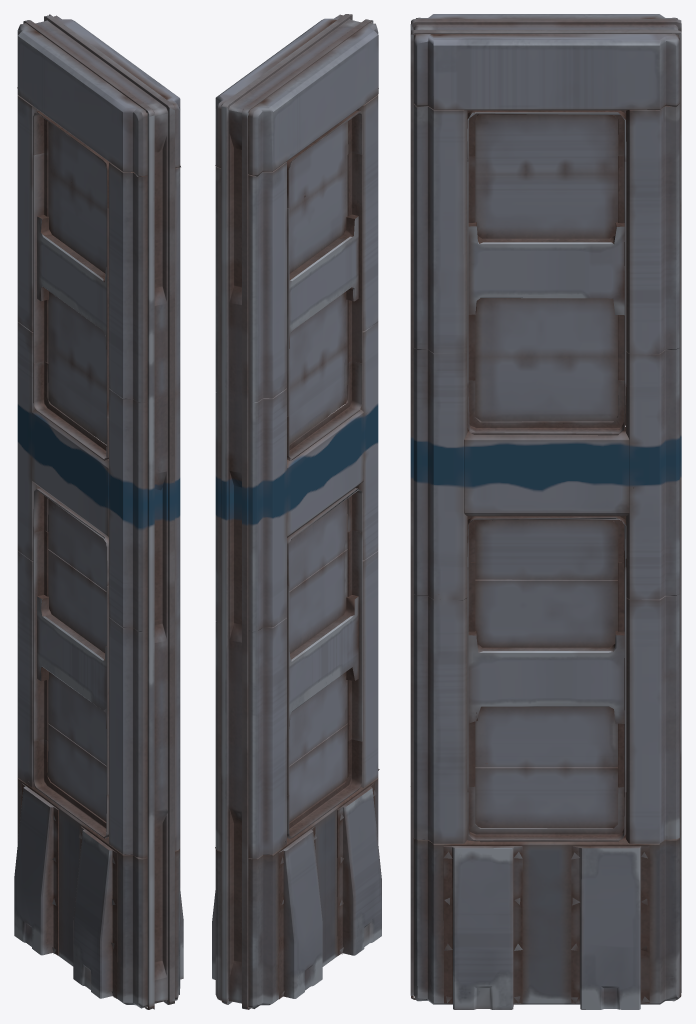
File: Gate_Metal_C.glb
The picture shows the model from 3 angles, left to right: view 1: azimuth 30°, elevation 25°; view 2: azimuth 150°, elevation 25°; view 3: azimuth 270°, elevation 25°; orthographic projection. The views are drawn at different scales.
Visible parts, largest first — view 1: SM_Metal_Gate; view 2: SM_Metal_Gate; view 3: SM_Metal_Gate.
Part boxes in pixels (x1,y1,x2,y2): SM_Metal_Gate: (14, 14, 183, 1009); SM_Metal_Gate: (212, 14, 381, 1009); SM_Metal_Gate: (410, 14, 681, 1009).
Bounding box in the file's own units: 0.7857 × 8.02 × 2.04.
1 material, 1 textured.
